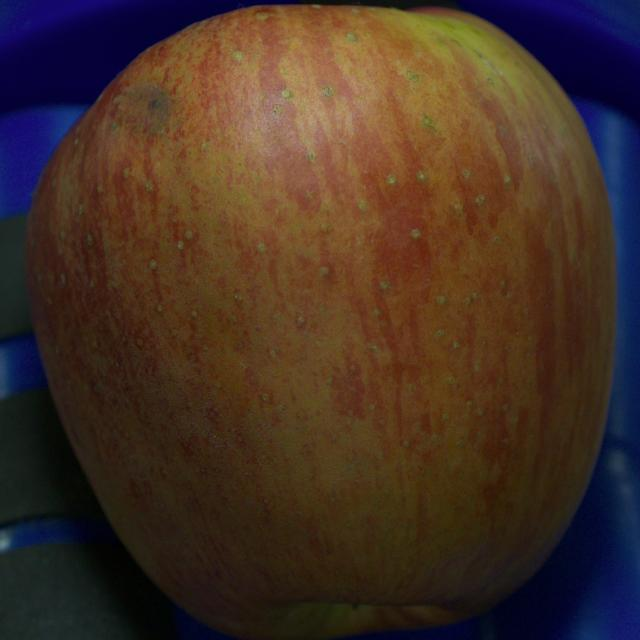apple: (25, 4, 615, 639)
